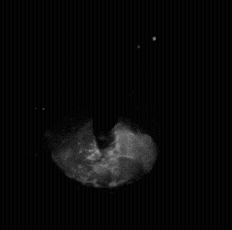arame: (94, 0, 119, 150)
poca: (49, 0, 155, 230)
